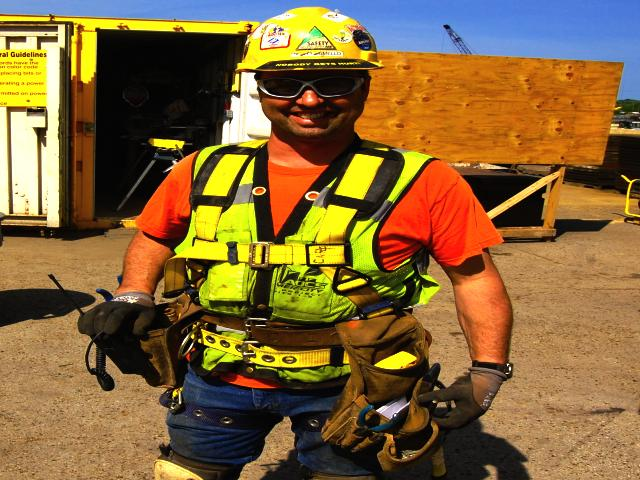Helmet: (224, 1, 386, 91)
